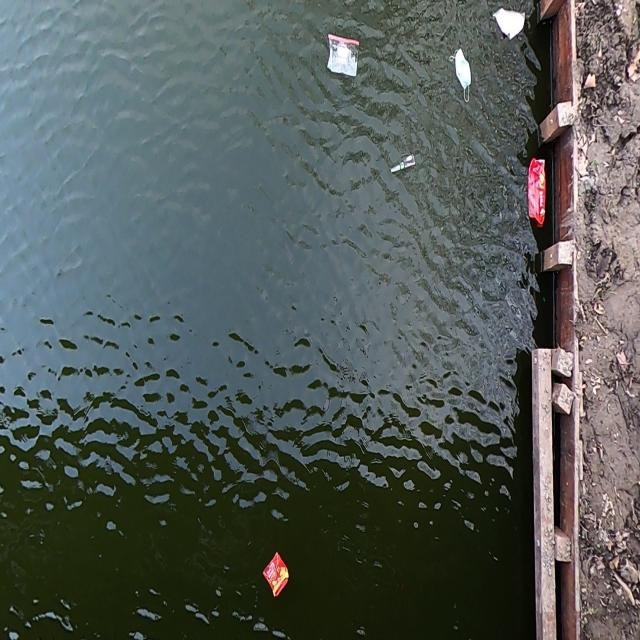Autre plastique: (523, 152, 552, 232), (260, 548, 296, 606)
Non plastique: (446, 42, 476, 108)
Sac plastique: (320, 26, 364, 82)
